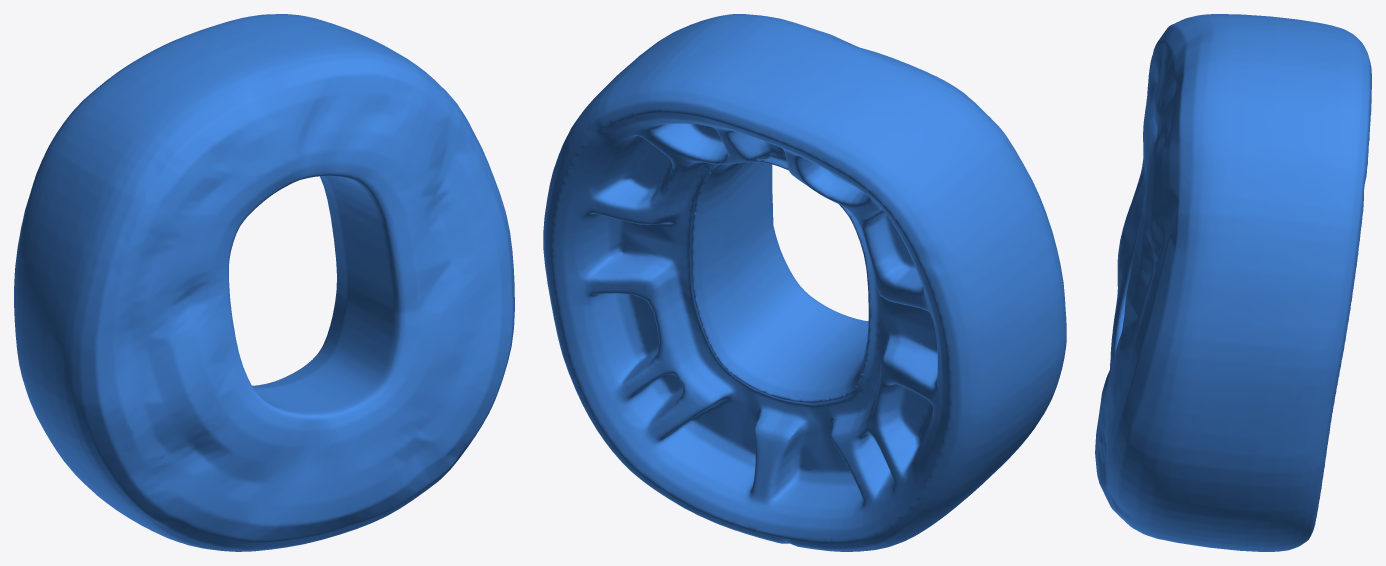
File: Stack 0B - O.glb
The picture shows the model from 3 angles, left to right: view 1: azimuth 30°, elevation 25°; view 2: azimuth 150°, elevation 25°; view 3: azimuth 270°, elevation 25°; orthographic projection. The views are drawn at different scales.
Parts seen in each view (by area): view 1: Stack 0B - O · mesh; view 2: Stack 0B - O · mesh; view 3: Stack 0B - O · mesh.
Boxes of the visible parts, <box> form: Stack 0B - O · mesh: <box>14,14,514,551</box>; Stack 0B - O · mesh: <box>543,14,1066,551</box>; Stack 0B - O · mesh: <box>1095,14,1371,551</box>.
Bounding box in the file's own units: 0.9854 × 1 × 0.5244.
